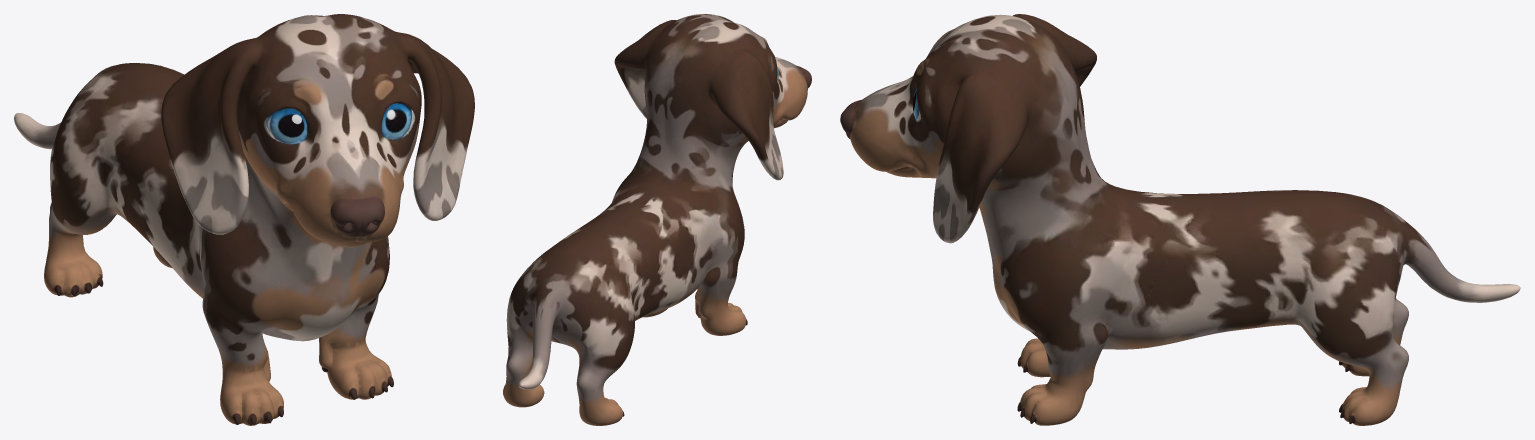
Rendered from sasha.glb.
3 views of the same model, side by side, from view 1: azimuth 30°, elevation 25°; view 2: azimuth 150°, elevation 25°; view 3: azimuth 270°, elevation 25° (orthographic). The views are drawn at different scales.
Bounding box in the file's own units: 0.7507 × 1.12 × 1.9.
Materials: 1 (1 with a texture image).
